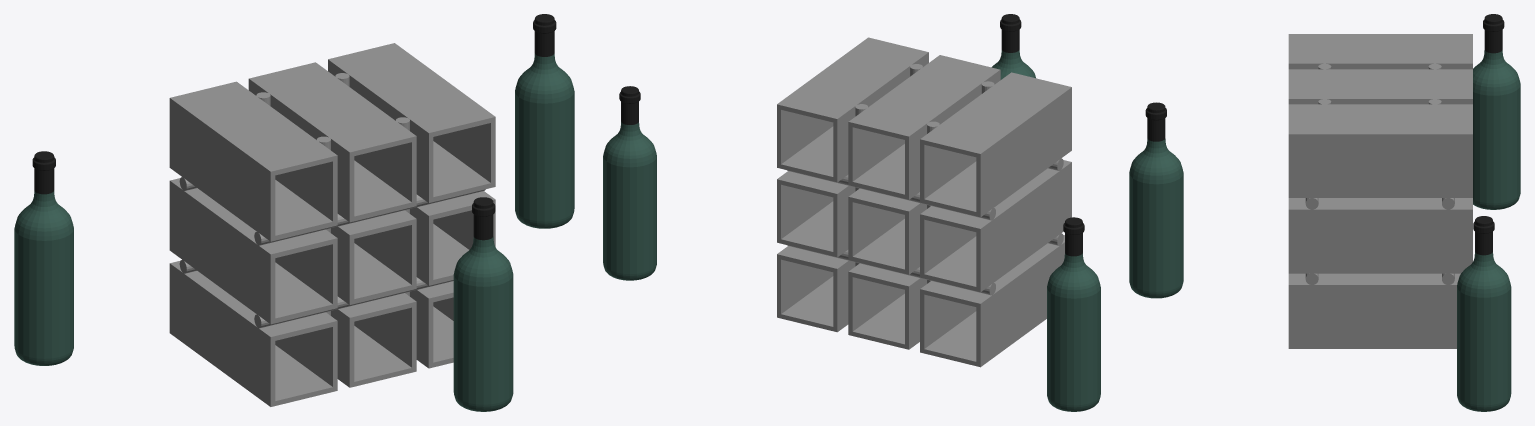
Rendered from real wine rack.fbx.
3 views of the same model, side by side, from view 1: azimuth 30°, elevation 25°; view 2: azimuth 150°, elevation 25°; view 3: azimuth 270°, elevation 25° (orthographic). The views are drawn at different scales.
Visible parts, largest first — view 1: Rack, Bottle02, Bottle01, Bottle; view 2: Rack, Bottle, Bottle01, Bottle02; view 3: Rack, Bottle02, Bottle01, Bottle.
Part boxes in pixels (left/top/right/bottom): Rack: left=169, top=43, right=495, bottom=406; Bottle02: left=453, top=197, right=513, bottom=411; Bottle01: left=515, top=14, right=574, bottom=228; Bottle: left=14, top=151, right=73, bottom=365; Rack: left=777, top=37, right=1071, bottom=367; Bottle: left=1047, top=217, right=1100, bottom=411; Bottle01: left=603, top=86, right=656, bottom=280; Bottle02: left=991, top=14, right=1035, bottom=79; Rack: left=1288, top=34, right=1472, bottom=348; Bottle02: left=1129, top=102, right=1183, bottom=298; Bottle01: left=1457, top=216, right=1511, bottom=411; Bottle: left=1473, top=14, right=1520, bottom=209.
Bounding box in the file's own units: 1063 × 449 × 722.
